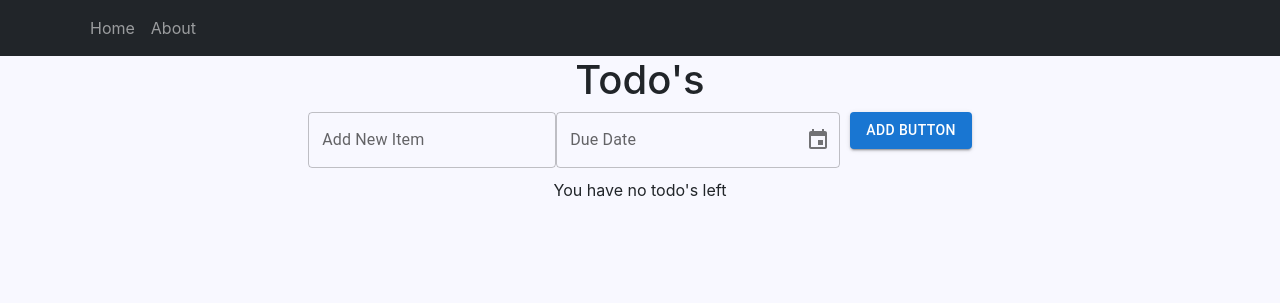
Test: test that App component can be deleted through checkbox
Type "History Test" into the field labelled "Add New Item" at {"x": 432, "y": 140}, box [308, 112, 556, 168]
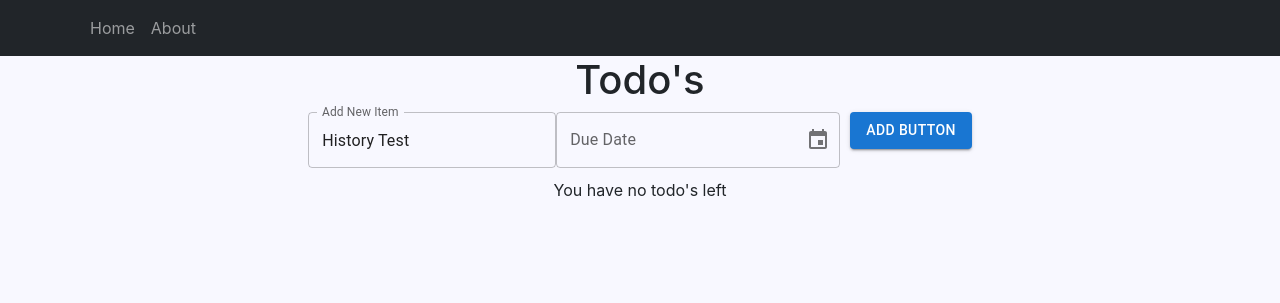
Type "05/30/2023" into the field with placeholder "mm/dd/yyyy" at {"x": 673, "y": 140}, box [556, 112, 790, 168]
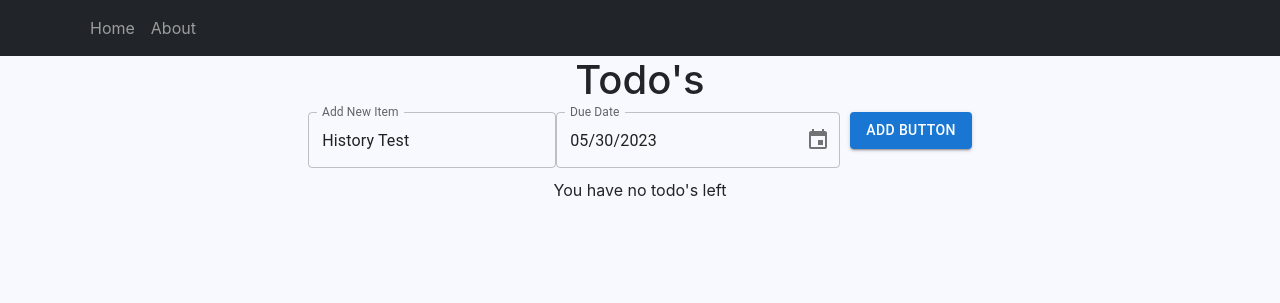
Click the button "Add button" at {"x": 911, "y": 130}, box [850, 112, 972, 148]
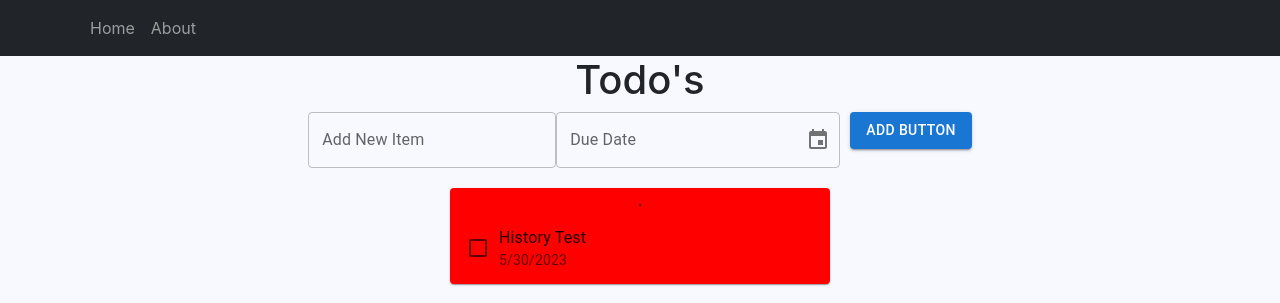
Result: the text "History Test" is shown at [499, 228, 586, 247]
Click the checkbox at {"x": 478, "y": 248}, box [466, 236, 490, 260]
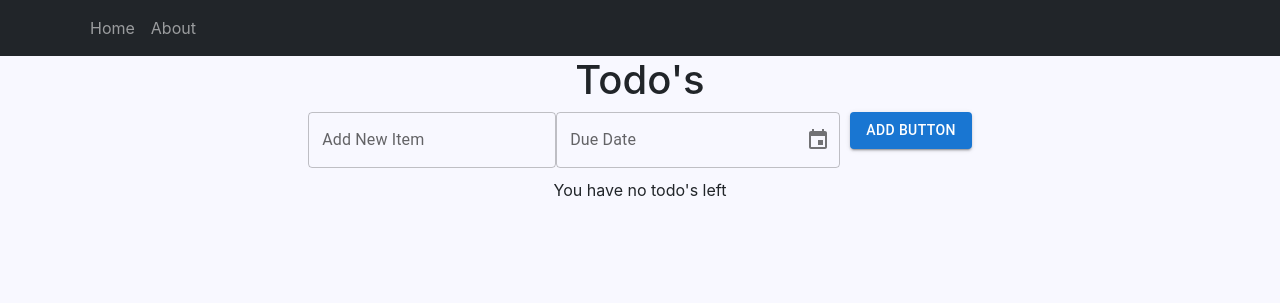
Result: the link "History Test" is gone
